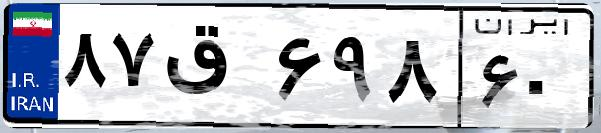0: (525, 38, 570, 115)
6: (270, 28, 330, 110), (475, 38, 525, 113)
7: (110, 28, 158, 98)
8: (385, 28, 445, 110), (57, 26, 110, 100)
9: (330, 28, 385, 110)
ق: (158, 20, 270, 120)
